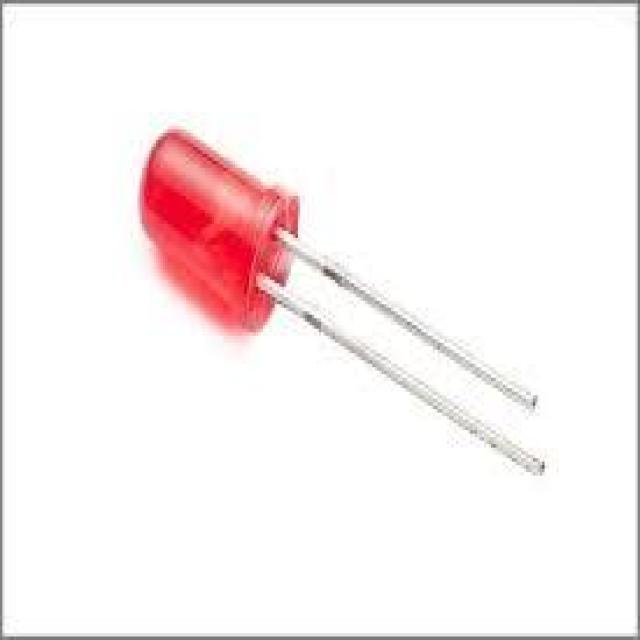Led: (141, 130, 543, 472)
